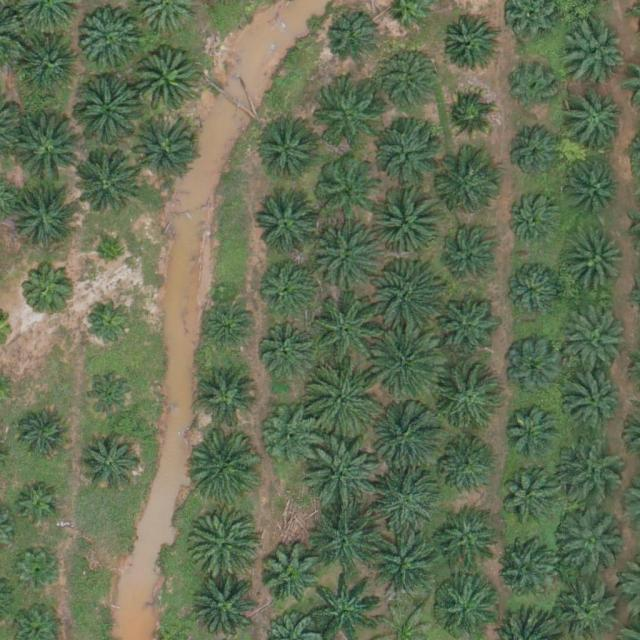Healthy: (305, 440, 376, 511), (190, 430, 261, 501), (310, 366, 381, 437), (71, 76, 142, 147), (69, 149, 140, 220), (371, 465, 441, 536), (372, 535, 442, 606), (188, 507, 258, 578), (562, 305, 632, 376), (434, 150, 504, 221), (435, 369, 505, 440), (376, 400, 446, 471), (374, 259, 444, 330), (373, 185, 443, 256), (309, 223, 380, 293), (314, 294, 384, 365), (131, 46, 201, 117), (11, 113, 81, 184), (558, 435, 628, 505), (554, 508, 624, 578), (312, 502, 382, 572), (374, 329, 444, 399), (374, 114, 444, 184), (129, 114, 199, 184), (14, 182, 84, 252), (259, 544, 322, 607), (565, 87, 628, 150), (435, 299, 498, 362), (315, 157, 378, 220), (260, 117, 323, 180), (195, 366, 258, 429), (495, 540, 557, 603), (79, 434, 141, 497), (567, 22, 629, 85), (567, 233, 630, 295), (503, 337, 565, 400), (312, 87, 374, 150), (257, 253, 319, 316), (257, 196, 319, 259), (79, 8, 141, 71), (20, 32, 83, 94), (436, 514, 498, 576), (432, 577, 494, 639), (563, 371, 625, 433), (504, 261, 566, 323), (379, 46, 441, 108), (261, 405, 323, 467), (259, 317, 321, 379), (84, 367, 139, 423), (502, 469, 557, 524), (438, 441, 493, 496), (567, 160, 622, 215), (504, 405, 559, 460), (508, 59, 563, 114), (508, 129, 563, 184), (508, 195, 563, 250), (442, 15, 497, 70), (442, 89, 497, 144), (440, 227, 495, 282), (326, 9, 381, 64), (22, 259, 77, 314), (18, 408, 73, 463), (83, 294, 137, 349), (200, 296, 254, 351)
Small: (17, 484, 64, 531), (16, 550, 63, 597), (95, 241, 126, 272)
